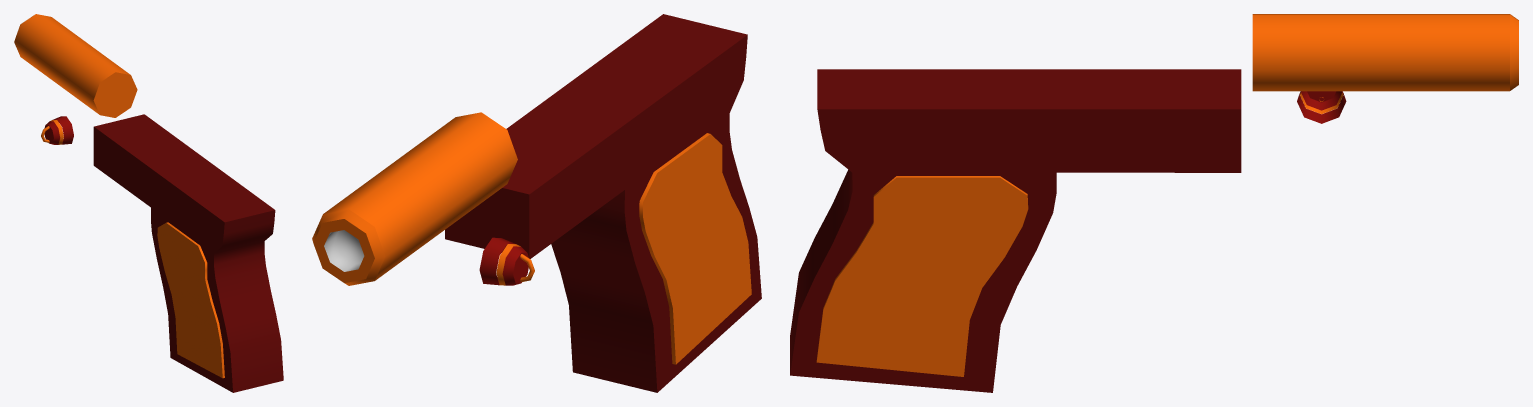
The model's file is Bubble Handgun Body.obj.
3 renders of one model, left to right at view 1: azimuth 30°, elevation 25°; view 2: azimuth 150°, elevation 25°; view 3: azimuth 270°, elevation 25°, orthographic. The views are drawn at different scales.
Parts seen in each view (by area): view 1: Meshpart2, Meshpart4, Meshpart1, Meshpart7; view 2: Meshpart2, Meshpart4, Meshpart1, Meshpart7, Meshpart3; view 3: Meshpart2, Meshpart1, Meshpart4, Meshpart7.
Boxes of the visible parts, bbox=[...] form: Meshpart2: bbox=[93, 114, 283, 392]; Meshpart4: bbox=[14, 14, 137, 117]; Meshpart1: bbox=[157, 222, 224, 378]; Meshpart7: bbox=[44, 116, 73, 144]; Meshpart2: bbox=[445, 14, 761, 392]; Meshpart4: bbox=[312, 112, 517, 285]; Meshpart1: bbox=[639, 133, 751, 364]; Meshpart7: bbox=[479, 237, 528, 285]; Meshpart3: bbox=[324, 230, 364, 271]; Meshpart2: bbox=[790, 69, 1241, 392]; Meshpart1: bbox=[816, 176, 1028, 376]; Meshpart4: bbox=[1252, 14, 1518, 91]; Meshpart7: bbox=[1297, 91, 1346, 123].
Bounding box in the file's own units: 0.484 × 1.26 × 2.33.
